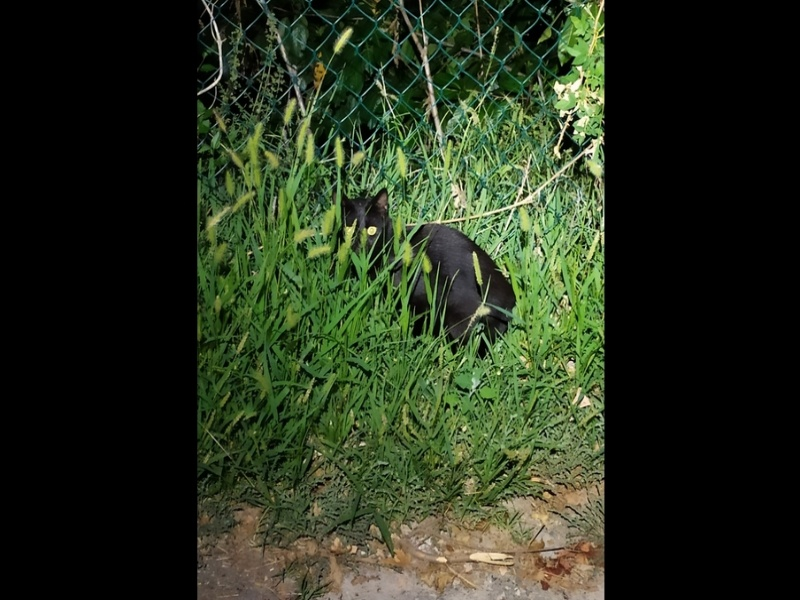cat: (336, 191, 526, 361)
